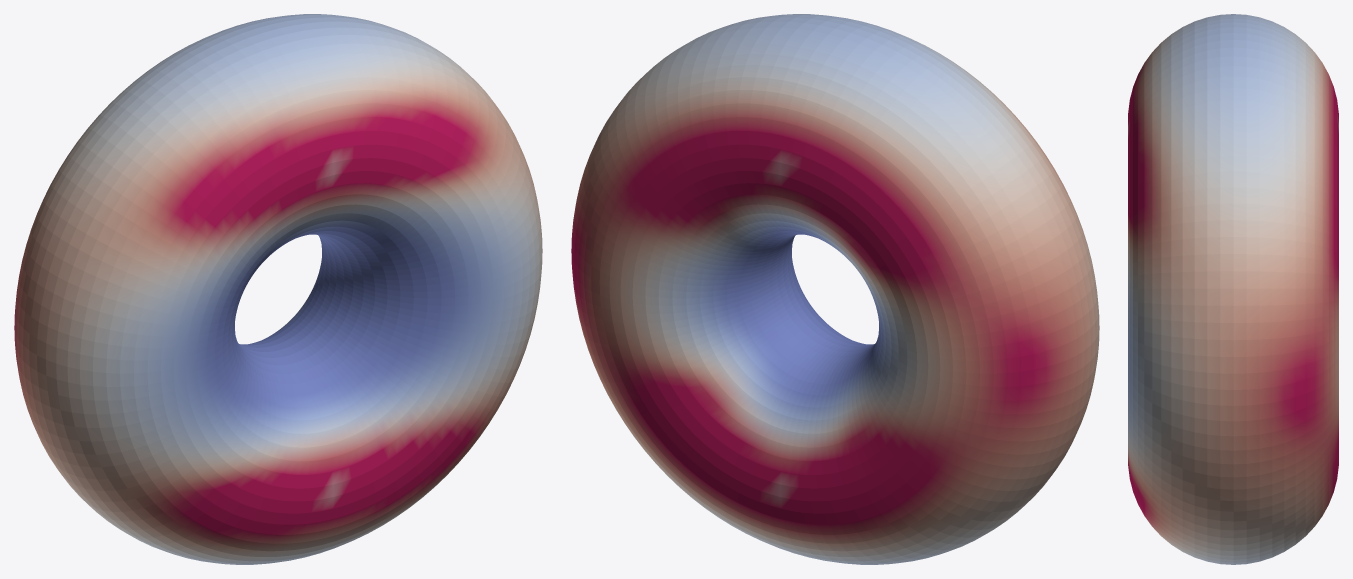
3 renders of one model, left to right at view 1: azimuth 30°, elevation 25°; view 2: azimuth 150°, elevation 25°; view 3: azimuth 270°, elevation 25°, orthographic. The views are drawn at different scales.
Visible parts, largest first — view 1: world; view 2: world; view 3: world.
Part boxes in pixels (box(x1,y1,x2,y2)): world: box(14, 14, 542, 564); world: box(571, 14, 1099, 564); world: box(1128, 14, 1338, 564).
Bounding box in the file's own units: 20.53 × 20.53 × 7.85.
